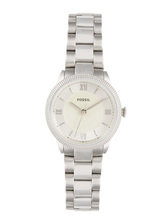watch: (45, 11, 130, 214)
